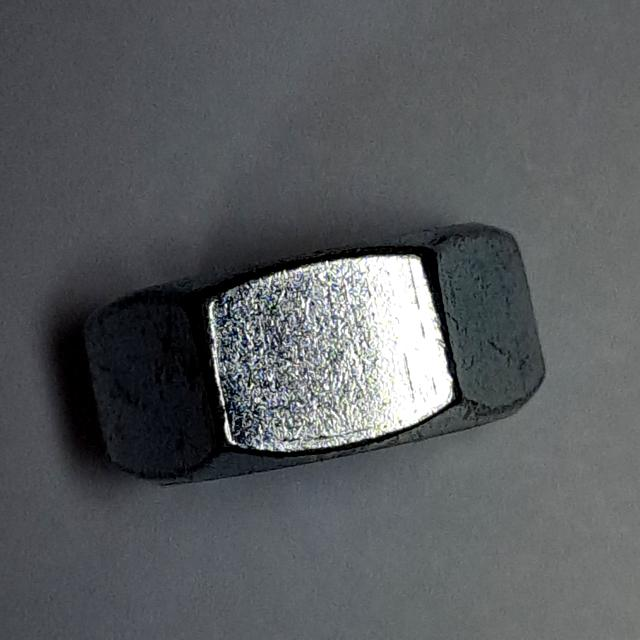Side_Excellent: (75, 207, 560, 509)
